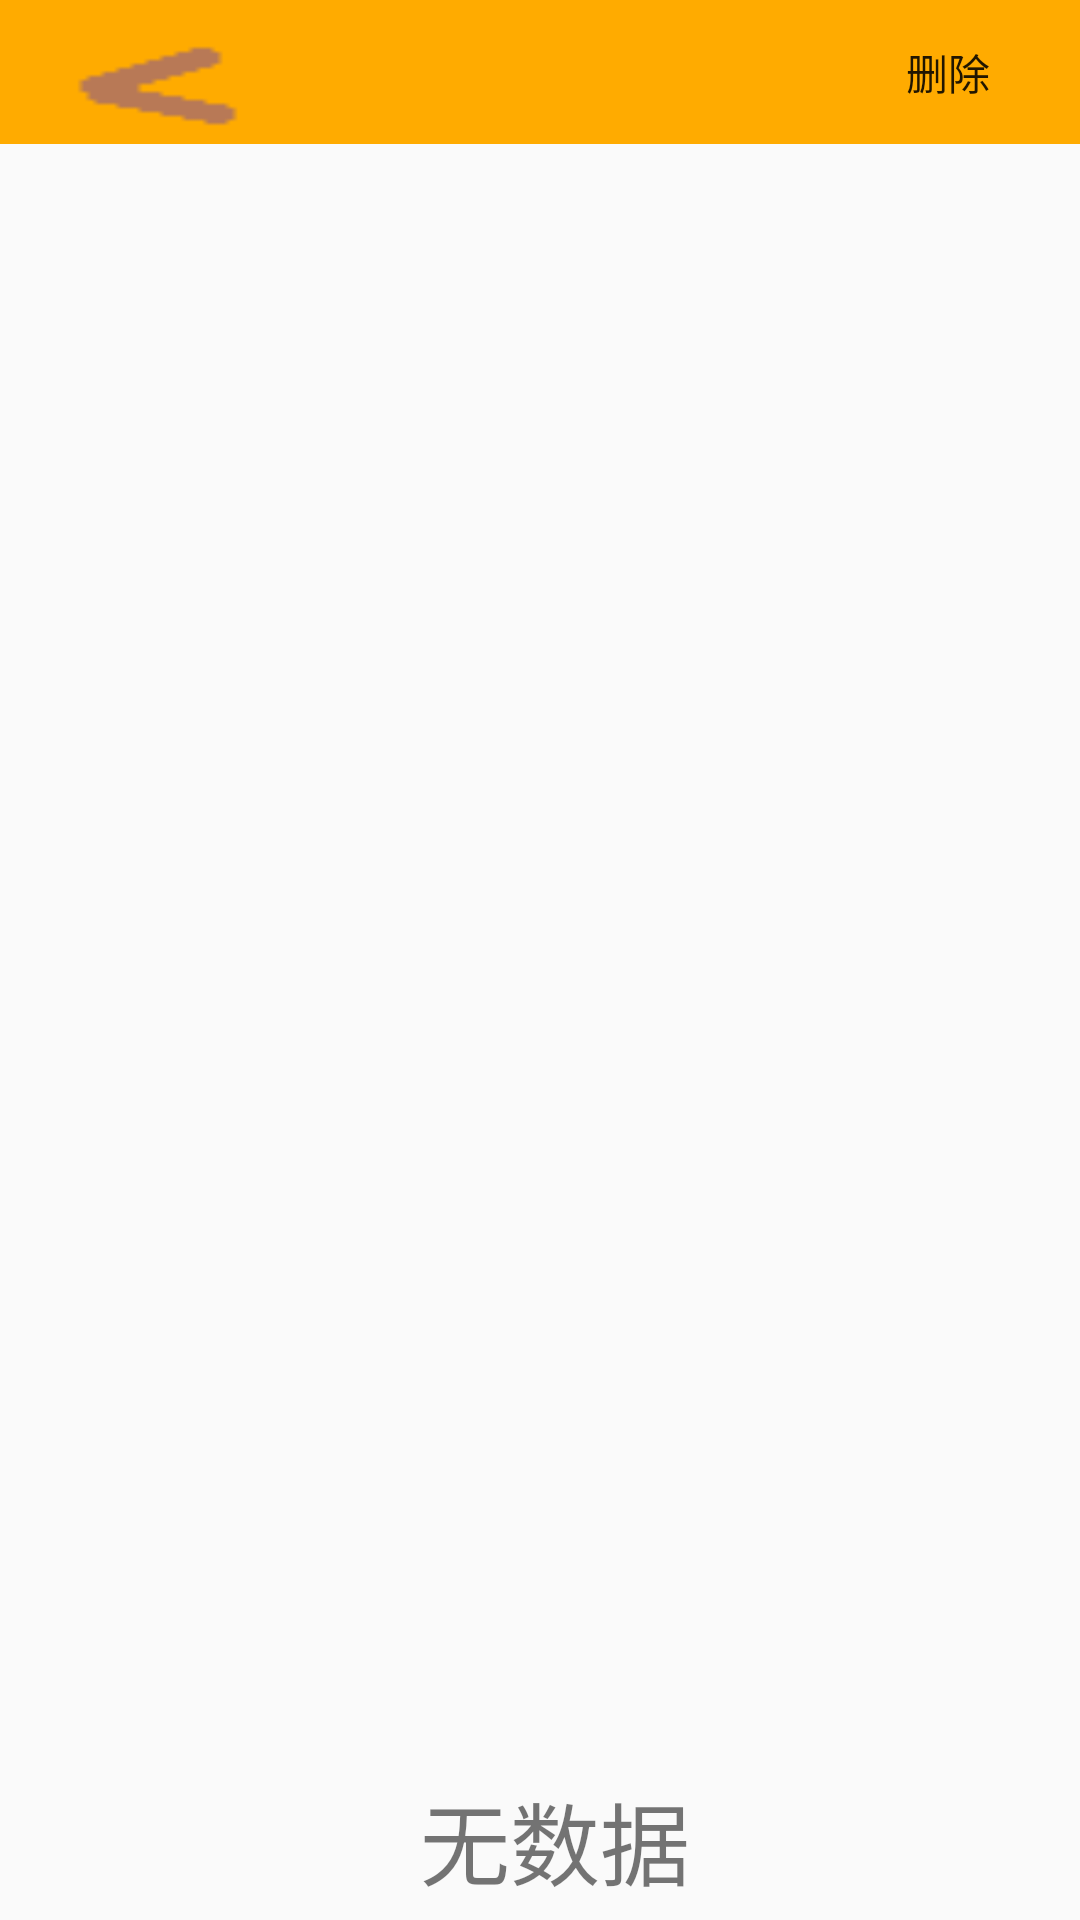

Locate icon controls on the screen. Image size 1080 x 1920, boxes as (x1, y1, x2, y2).
back: (79, 47, 236, 125)
